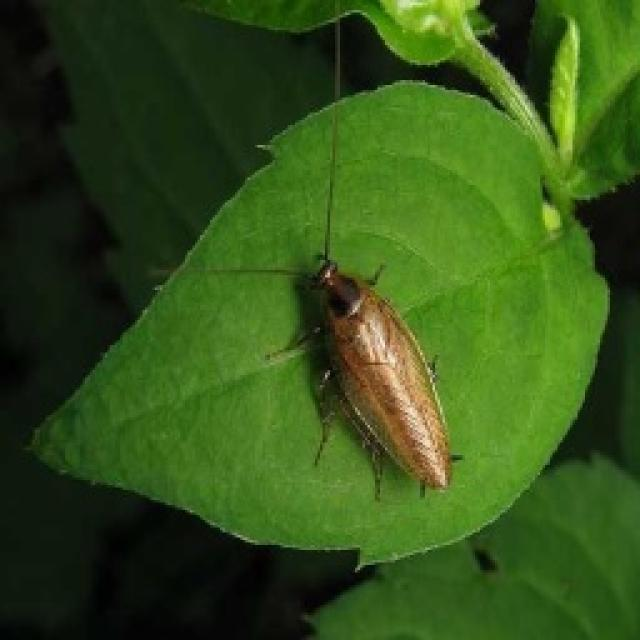cockroach: (289, 244, 458, 491)
